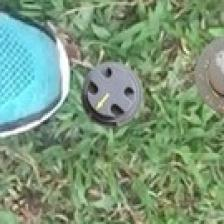M14: (80, 62, 151, 136)
